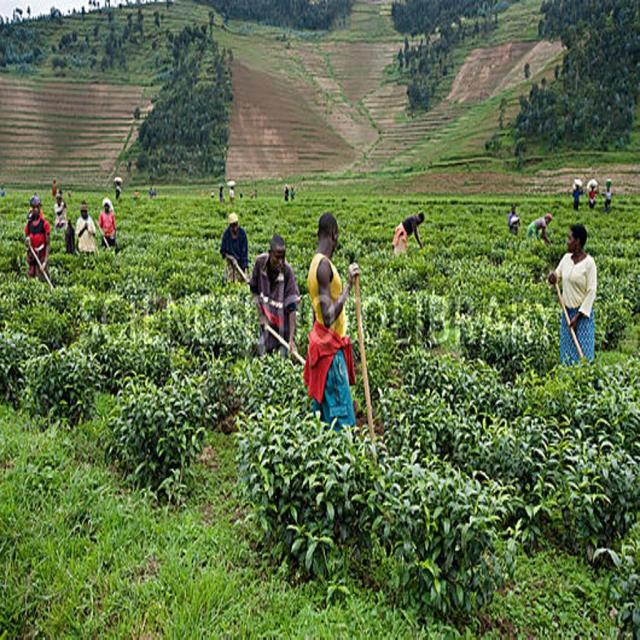nomask: (271, 245, 285, 270), (566, 229, 576, 251), (229, 221, 237, 233)
